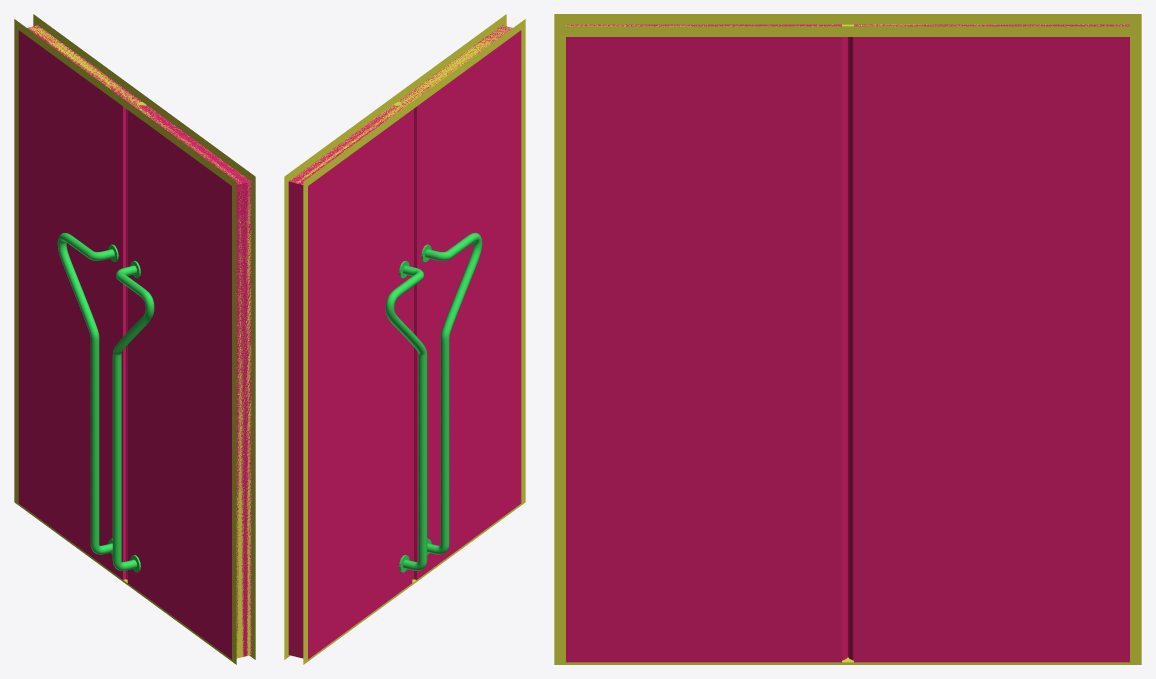
The model's file is Door_Double_200x240.fbx.
3 renders of one model, left to right at view 1: azimuth 30°, elevation 25°; view 2: azimuth 150°, elevation 25°; view 3: azimuth 270°, elevation 25°, orthographic. The views are drawn at different scales.
Parts seen in each view (by area): view 1: Door; view 2: Door; view 3: Door.
Boxes of the visible parts, bbox=[...] form: Door: bbox=[14, 14, 255, 664]; Door: bbox=[284, 14, 525, 664]; Door: bbox=[554, 14, 1141, 664].
Size of the model in its own units: 0.22 by 2.4 by 2.
